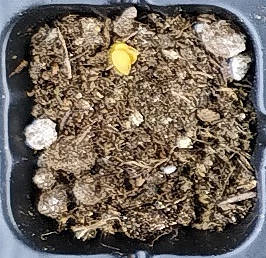pepper seed: (45, 10, 178, 87), (42, 9, 180, 74)
